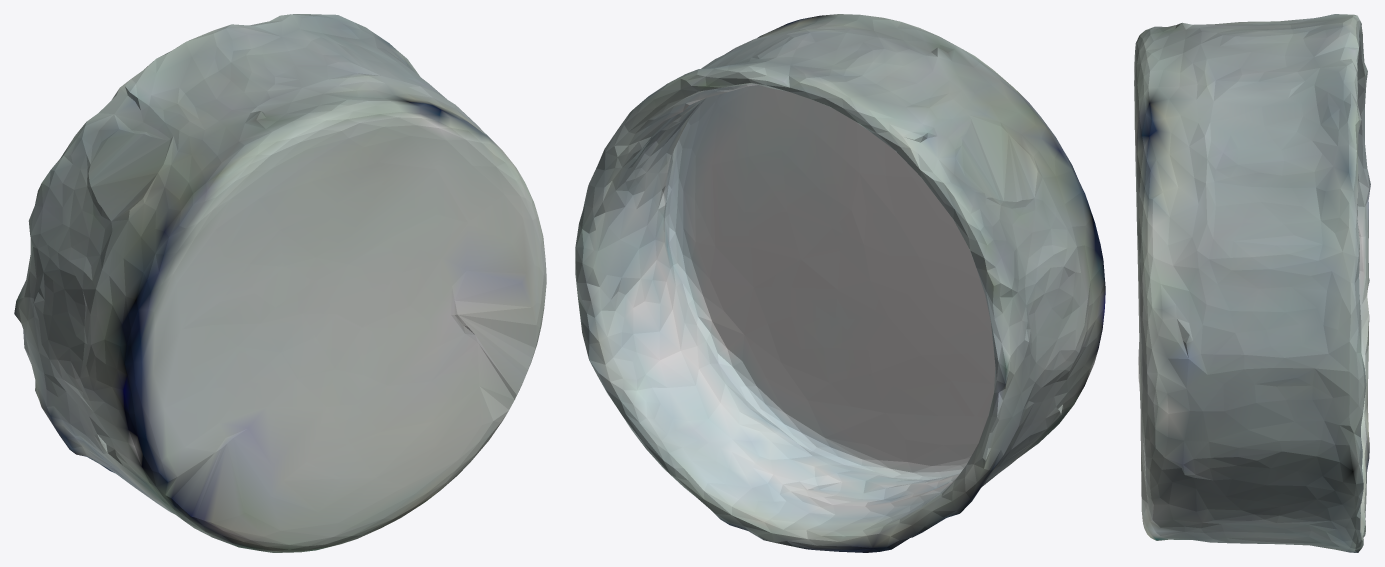
File: scan.obj
3 renders of one model, left to right at view 1: azimuth 30°, elevation 25°; view 2: azimuth 150°, elevation 25°; view 3: azimuth 270°, elevation 25°, orthographic. The views are drawn at different scales.
Parts seen in each view (by area): view 1: scan.ply; view 2: scan.ply; view 3: scan.ply.
Boxes of the visible parts, x1,y1,x2,y2 form: scan.ply: [14, 14, 546, 552]; scan.ply: [575, 14, 1105, 552]; scan.ply: [1134, 14, 1370, 552].
Bounding box in the file's own units: 0.0439 × 0.0448 × 0.0196.
